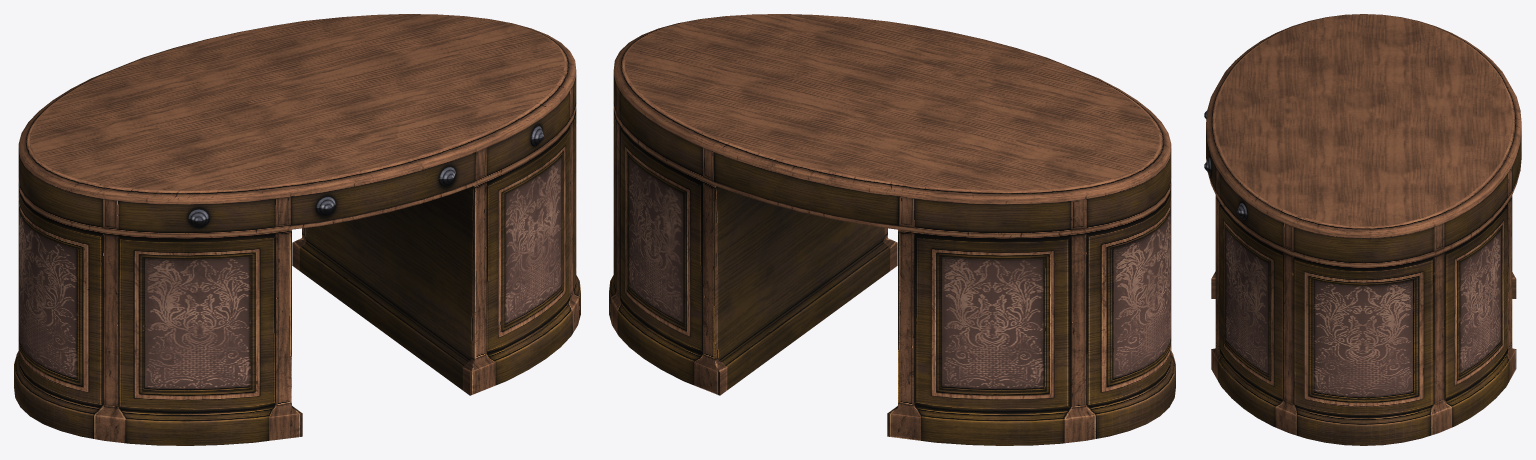
File: Table01.FBX
The picture shows the model from 3 angles, left to right: view 1: azimuth 30°, elevation 25°; view 2: azimuth 150°, elevation 25°; view 3: azimuth 270°, elevation 25°; orthographic projection. The views are drawn at different scales.
Parts seen in each view (by area): view 1: Table01; view 2: Table01; view 3: Table01.
Part boxes in pixels (<box>): Table01: <box>14,14,580,445</box>; Table01: <box>609,14,1175,445</box>; Table01: <box>1204,14,1521,445</box>.
Bounding box in the file's own units: 256 × 153 × 114.
